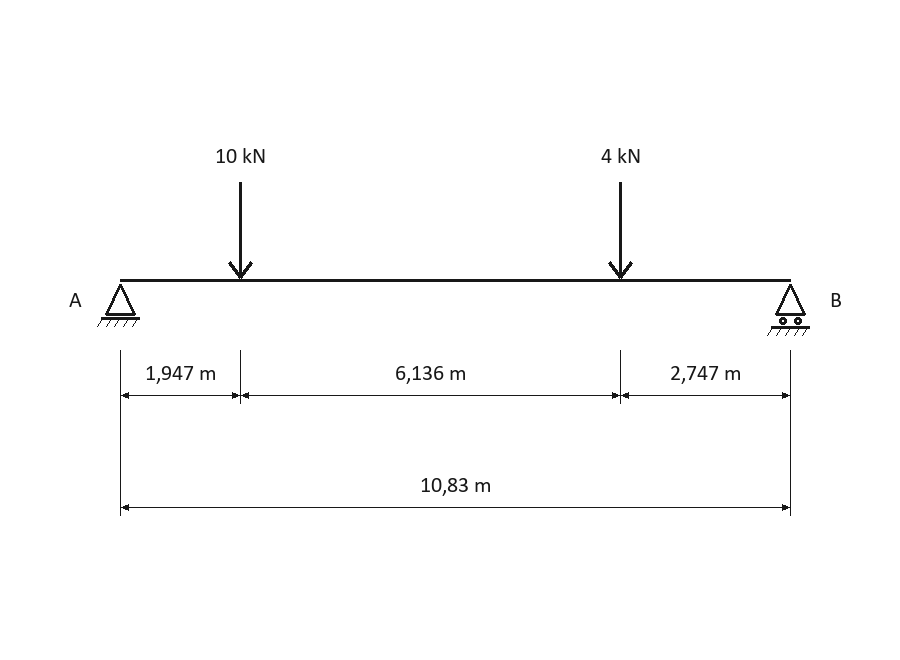pin_support: (97, 284, 140, 327)
point_load: (228, 182, 253, 279), (608, 182, 633, 279)
roller_support: (767, 284, 810, 336)
